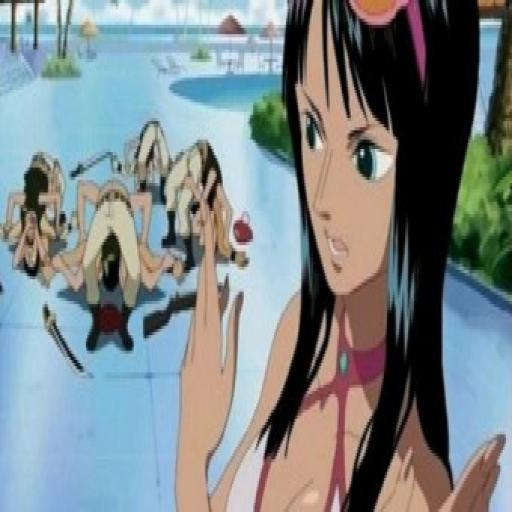NicoRobin: (278, 0, 463, 350)
